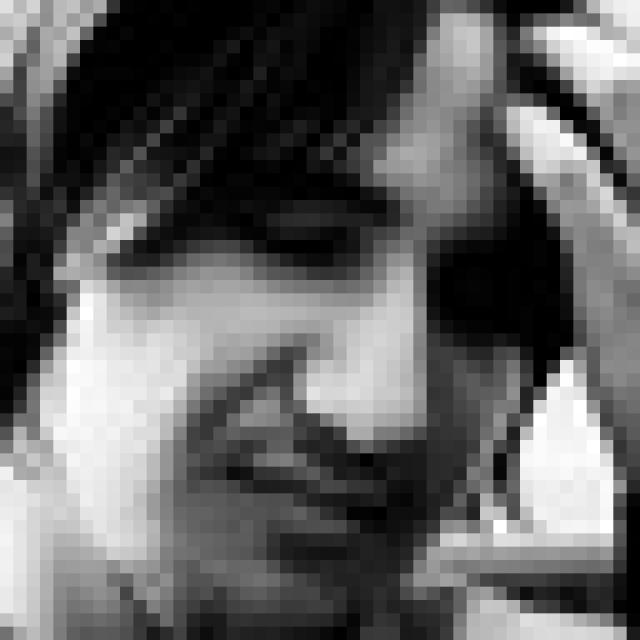sad: (157, 168, 529, 566)
